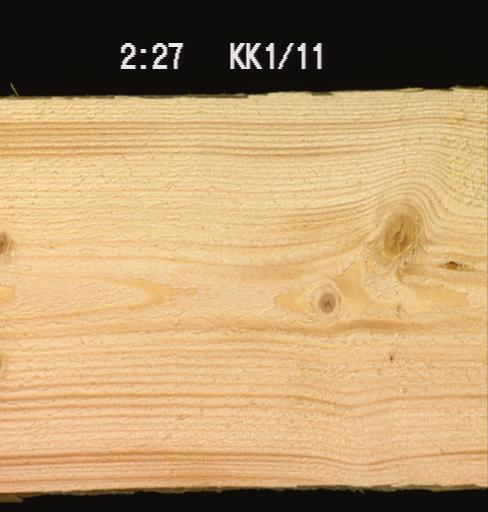sound_knot: (377, 209, 421, 256), (314, 283, 339, 317), (0, 226, 13, 255)
